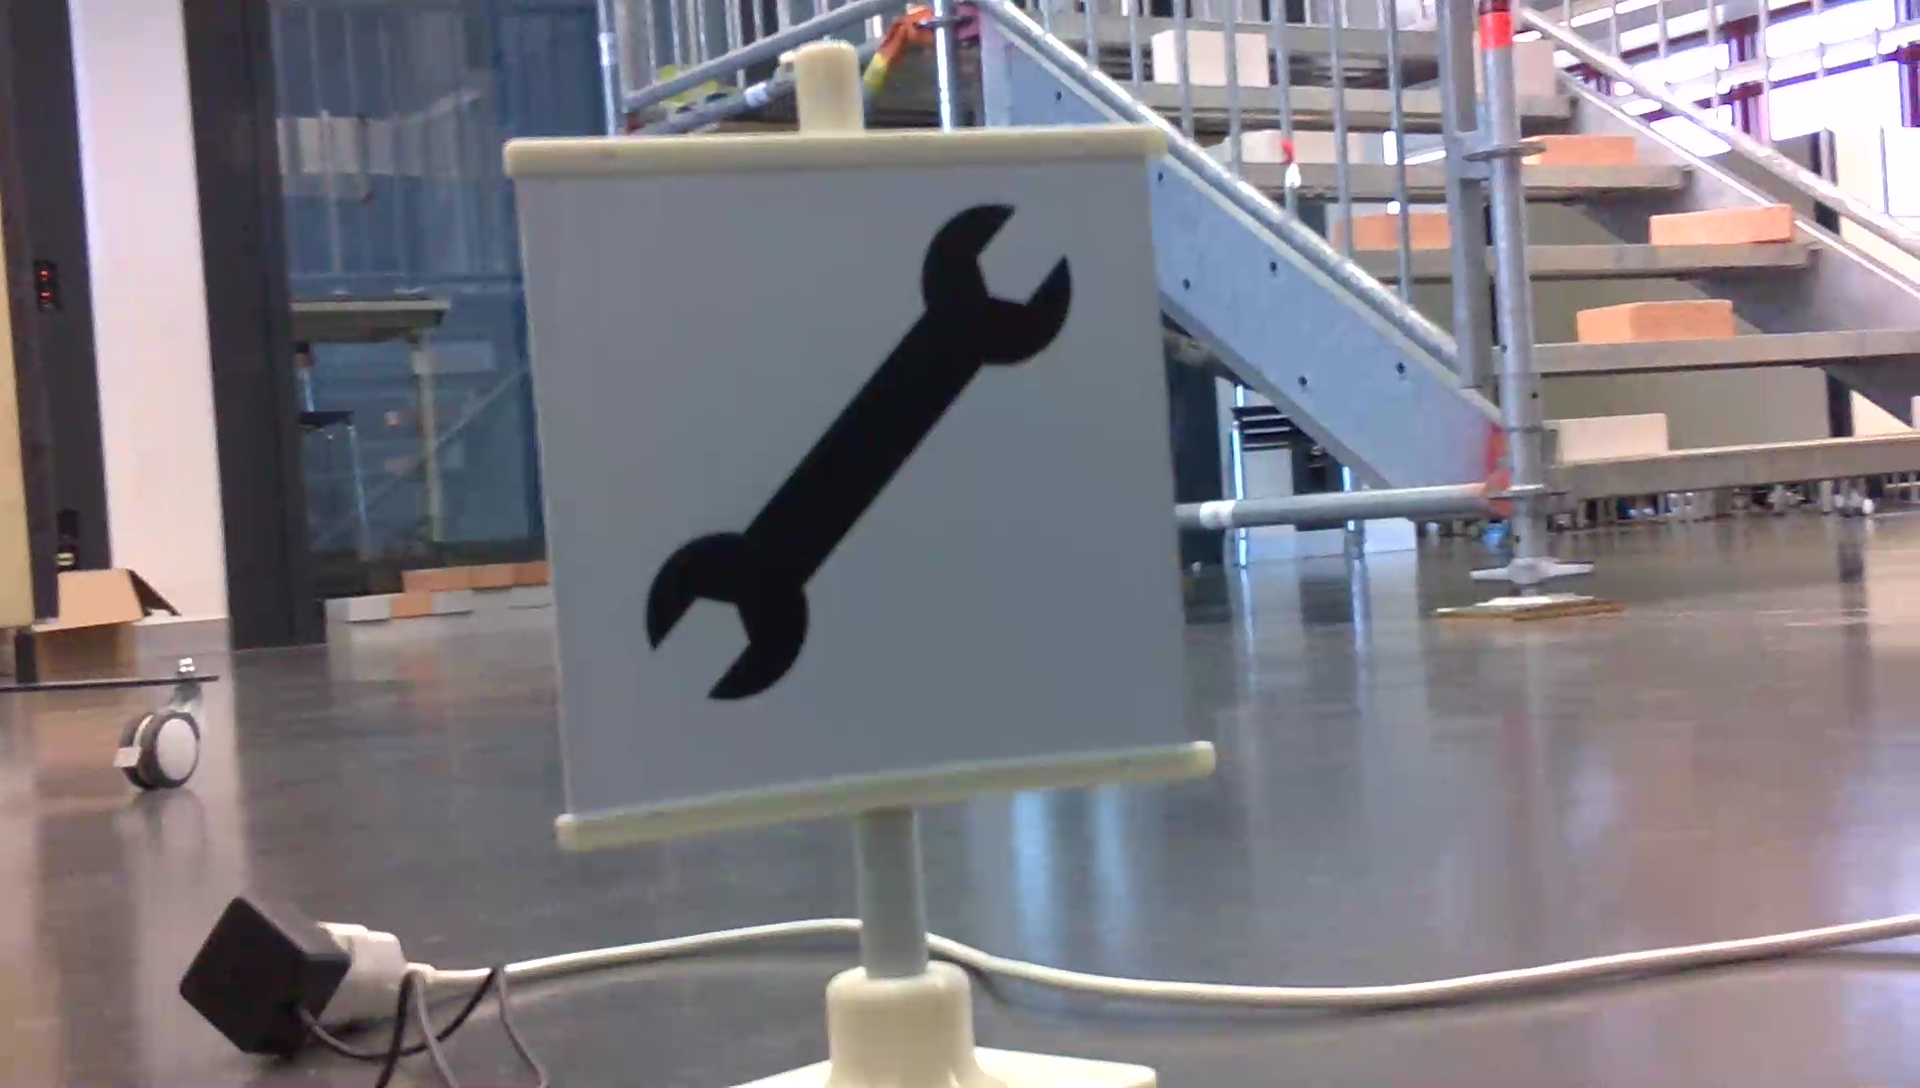brick: (1578, 299, 1727, 340), (1545, 415, 1664, 460), (1652, 206, 1792, 240), (1528, 136, 1635, 164), (1510, 42, 1553, 94)
edge: (1565, 437, 1917, 502), (1538, 327, 1920, 373), (1526, 232, 1820, 270)
wrench: (637, 190, 1080, 708)
